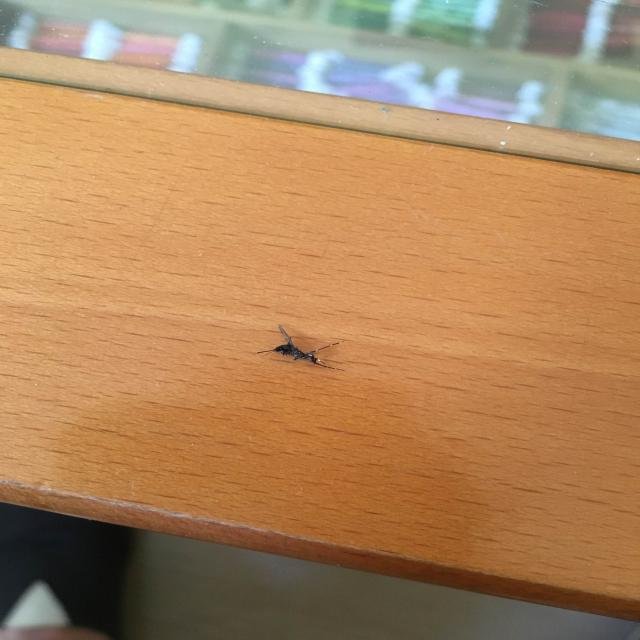albopictus: (253, 320, 345, 376)
